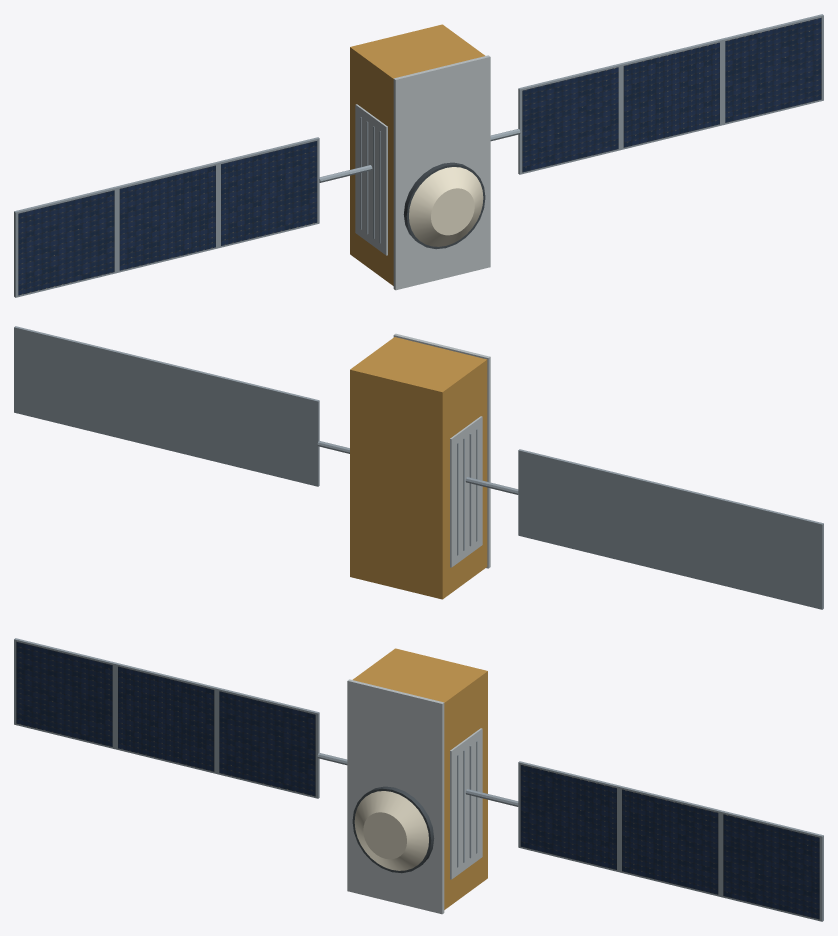
Rendered from qzss.glb.
3 renders of one model, top to bottom at view 1: azimuth 30°, elevation 25°; view 2: azimuth 150°, elevation 25°; view 3: azimuth 330°, elevation 25°, orthographic.
Visible parts, largest first — view 1: Photovoltaic laminates (×6), Payload deck, Equipment bus, Array frame (×6), Navigation antenna cover, Radiator, Navigation antenna base; view 2: Array frame (×6), Equipment bus, Radiator, Payload deck; view 3: Photovoltaic laminates (×6), Payload deck, Equipment bus, Array frame (×6), Navigation antenna cover, Radiator, Navigation antenna base.
Boxes of the visible parts, x1,y1,x2,y2 form: Photovoltaic laminates (×6): [18, 17, 821, 295]; Payload deck: [393, 55, 490, 290]; Equipment bus: [350, 24, 485, 285]; Array frame (×6): [14, 14, 823, 297]; Navigation antenna cover: [409, 167, 483, 246]; Radiator: [355, 104, 387, 255]; Navigation antenna base: [403, 162, 485, 249]; Array frame (×6): [14, 326, 823, 609]; Equipment bus: [350, 337, 487, 599]; Radiator: [450, 416, 482, 567]; Payload deck: [393, 333, 490, 568]; Photovoltaic laminates (×6): [16, 641, 819, 919]; Payload deck: [347, 679, 444, 914]; Equipment bus: [352, 648, 487, 909]; Array frame (×6): [14, 638, 823, 921]; Navigation antenna cover: [354, 791, 428, 870]; Radiator: [450, 728, 482, 879]; Navigation antenna base: [352, 786, 434, 873].
Bounding box in the file's own units: 25.3 × 6.29 × 3.07.
6 materials, 1 textured.
